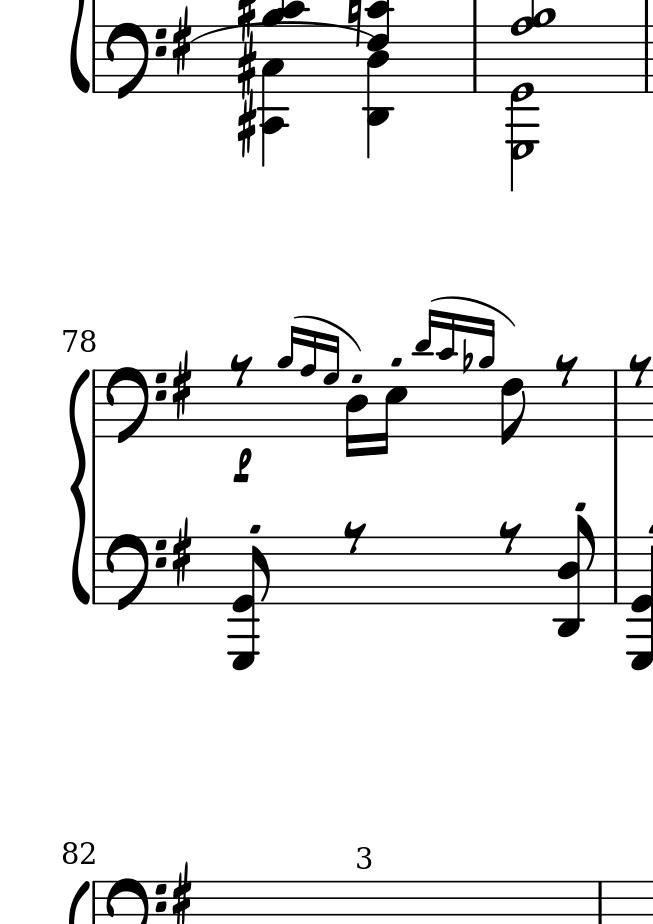16_4: (344, 370, 368, 459)
16_5: (375, 369, 407, 457)
2: (78, 840, 96, 865)
3: (60, 840, 78, 865), (355, 846, 373, 871)
7: (62, 328, 77, 353)
8: (79, 328, 96, 353)
8_-3_4: (554, 513, 596, 641)
8_-7_0: (227, 536, 272, 669)
8_6: (500, 368, 526, 447)
Fclef: (103, 364, 166, 445), (104, 20, 166, 102), (104, 531, 165, 612)
Flat: (460, 337, 474, 375)
Rests8: (498, 520, 524, 555), (228, 353, 253, 388), (554, 353, 579, 388), (342, 521, 367, 555), (628, 354, 651, 388)
Sharp: (170, 349, 193, 422), (171, 860, 193, 924), (235, 31, 256, 95), (236, 97, 257, 158)
Single_barline: (466, 26, 484, 91), (608, 537, 623, 604), (638, 26, 653, 91), (609, 372, 623, 436), (88, 538, 100, 605), (89, 31, 101, 92)
Slur: (431, 292, 514, 329), (295, 312, 364, 353)
p: (231, 448, 253, 485)
